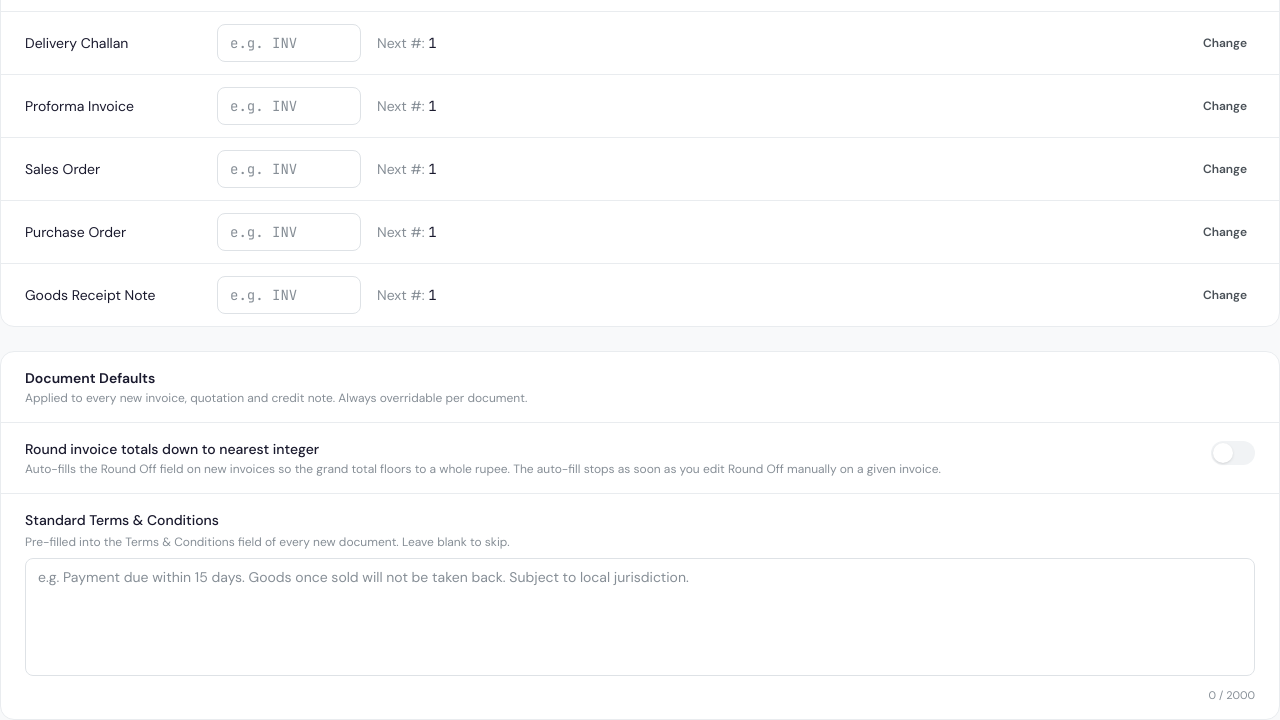
DocumentsTab — Document Defaults card › clicking the toggle flips aria-checked AND reveals the defaults Save button
(page scrolled)
Click the switch named "round totals down by default": (1233, 452) [1211,440,1255,464]
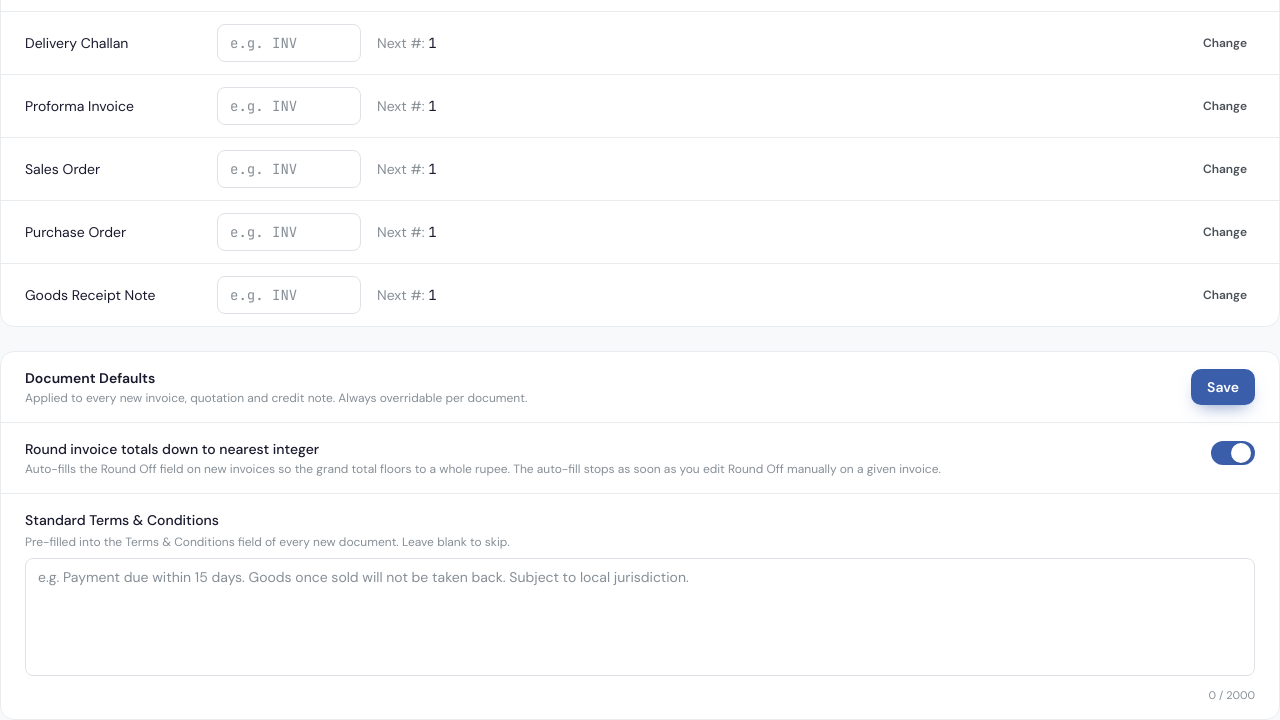
Result: the button "Save" is shown at [1191,368,1255,404]
